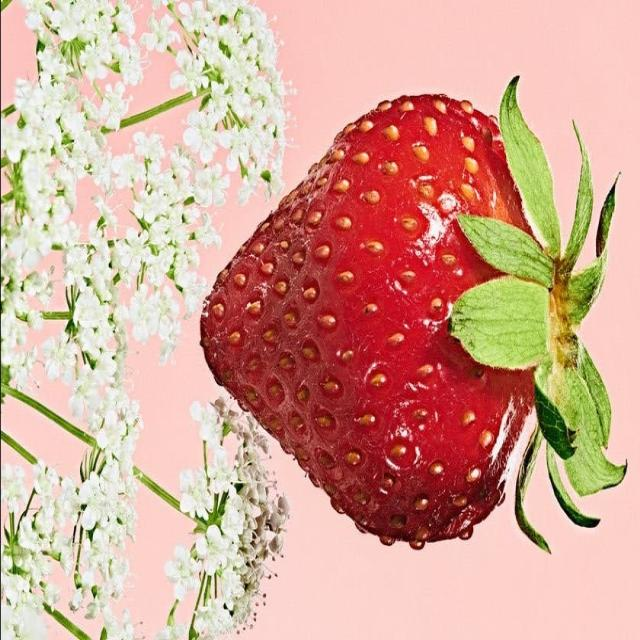strawberry: (194, 67, 640, 565)
